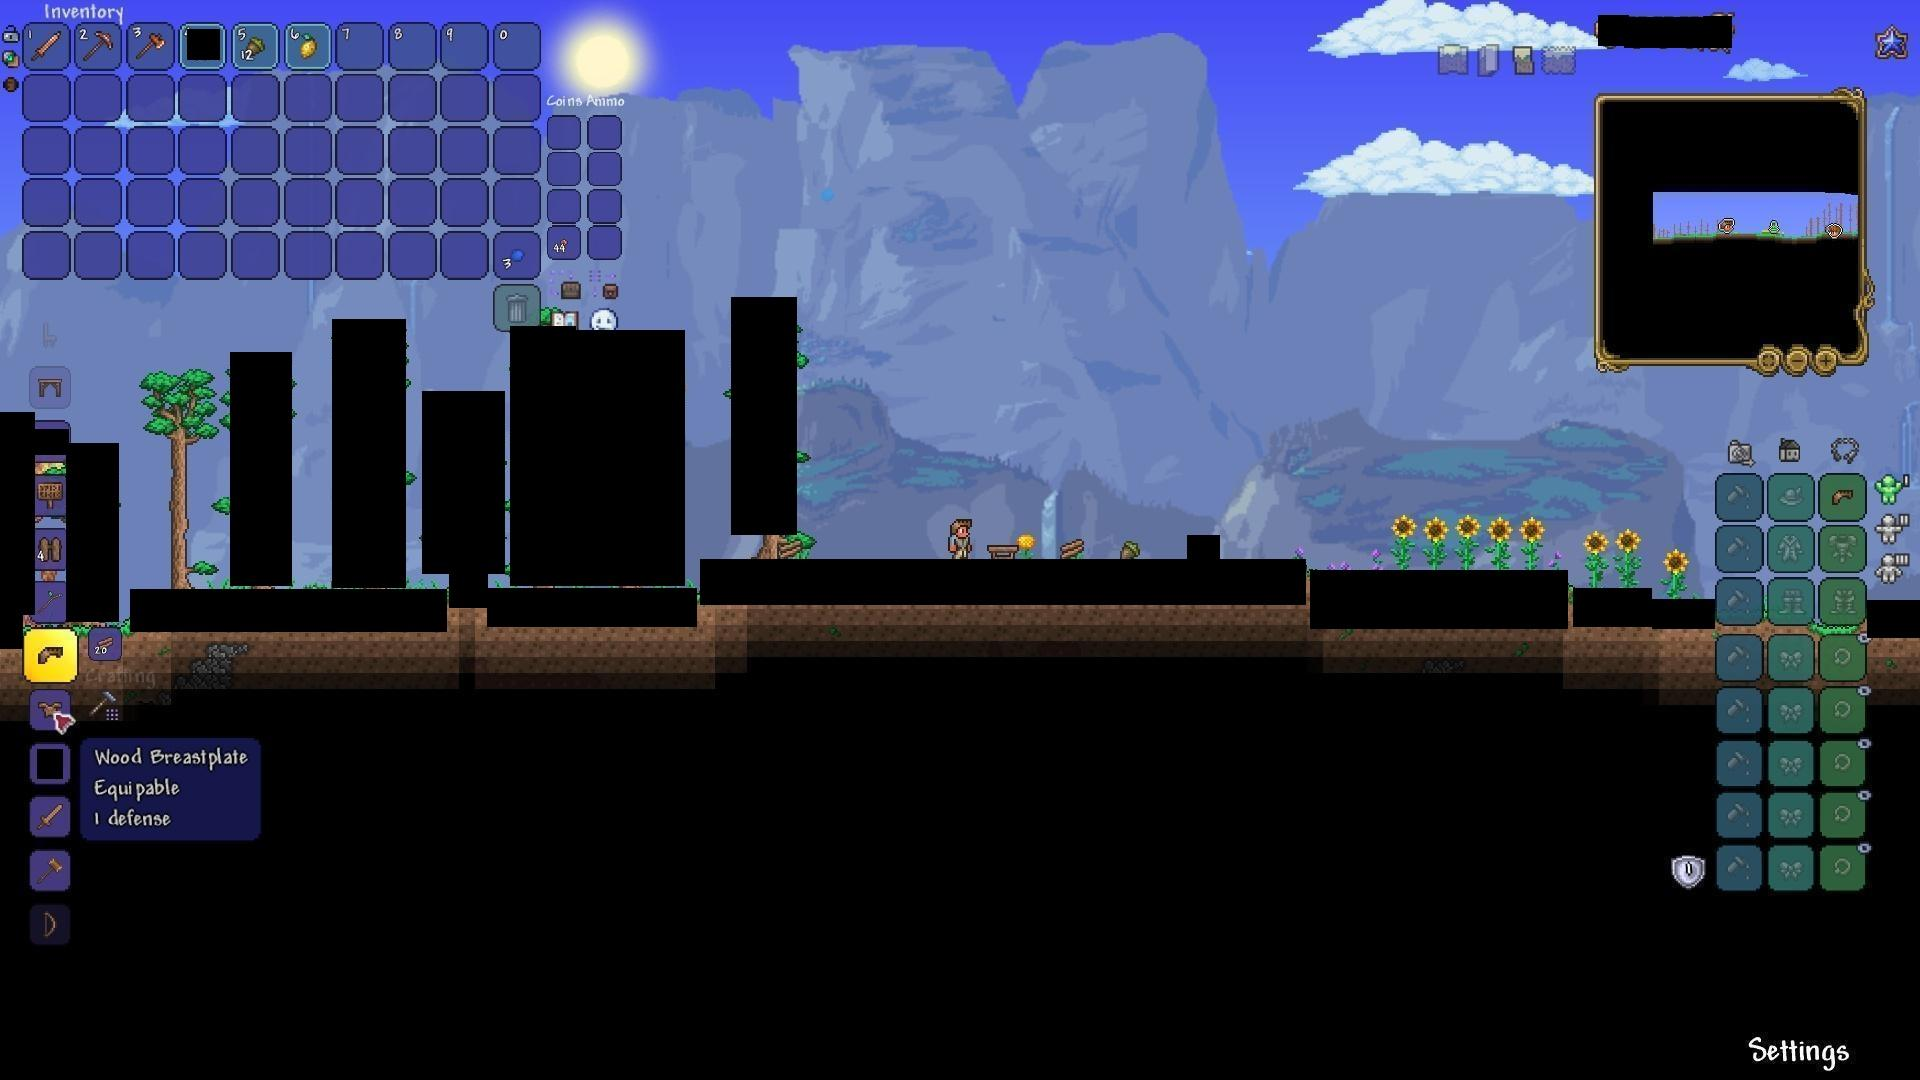breastplate: (37, 698, 67, 719)
helmet: (36, 642, 66, 670), (1828, 483, 1858, 509)
tree: (138, 355, 204, 584)
wood: (1054, 535, 1087, 566), (91, 629, 123, 659), (775, 539, 808, 568)
workbench: (982, 541, 1019, 564)
